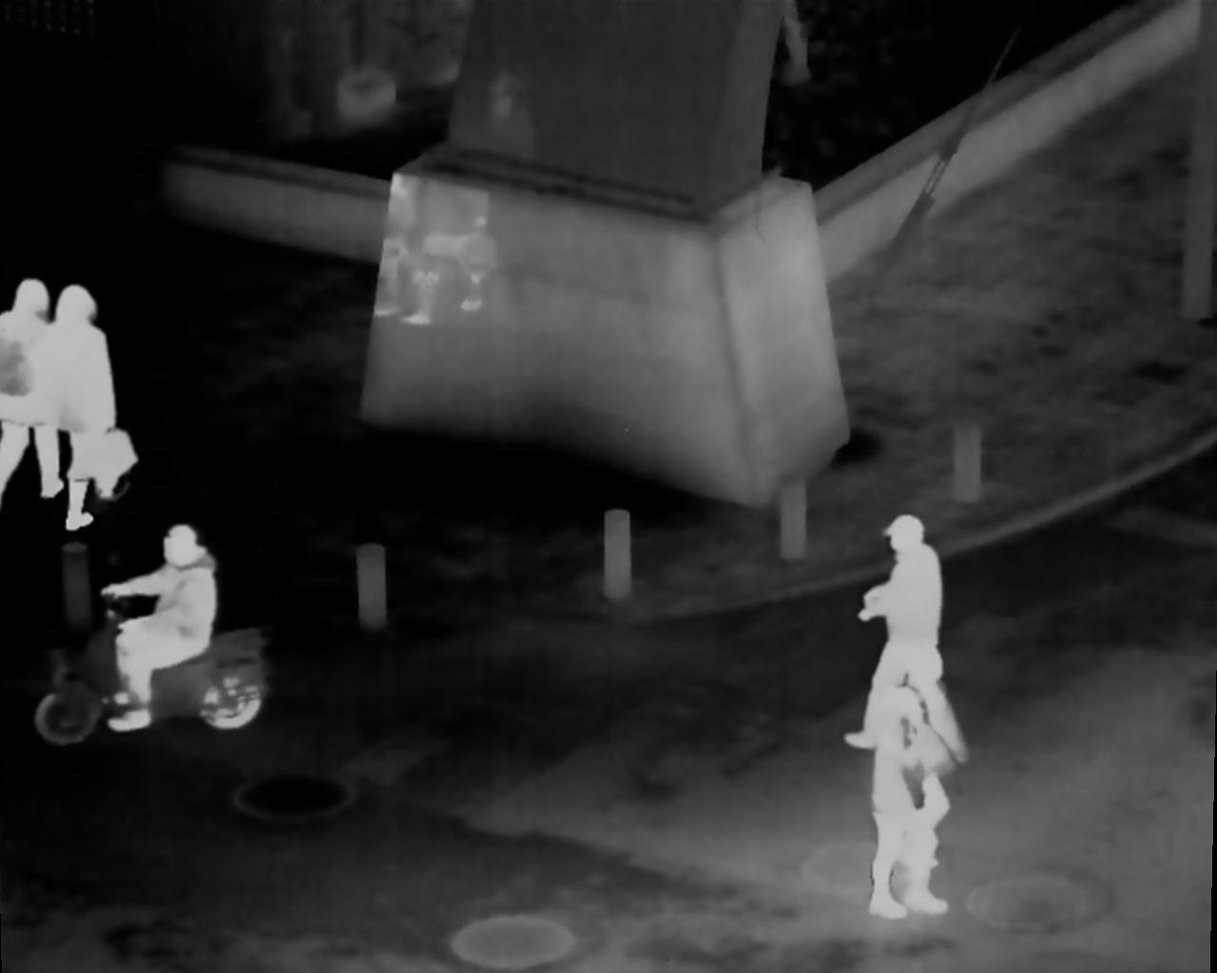person: (848, 512, 975, 761), (104, 528, 222, 733), (39, 283, 130, 527), (861, 697, 947, 916)
